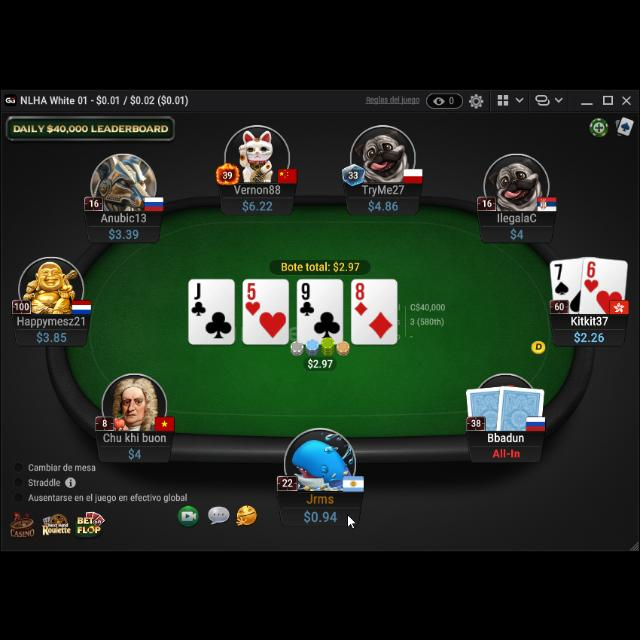5h: (244, 278, 262, 312)
6h: (584, 260, 598, 292)
7s: (552, 260, 570, 294)
8d: (354, 279, 368, 315)
9c: (298, 278, 316, 314)
Jc: (190, 278, 208, 316)
all_in_symbol: (492, 445, 520, 457)
bet_text: (306, 354, 334, 368)
card_back: (496, 380, 546, 430), (465, 381, 505, 427)
dealer: (529, 336, 547, 352)
pot_text: (280, 257, 360, 269)
stack_text: (302, 504, 338, 520), (107, 222, 139, 238), (242, 196, 274, 210), (367, 196, 399, 210), (36, 326, 68, 340), (574, 327, 606, 341), (128, 442, 142, 456), (510, 224, 524, 238)
